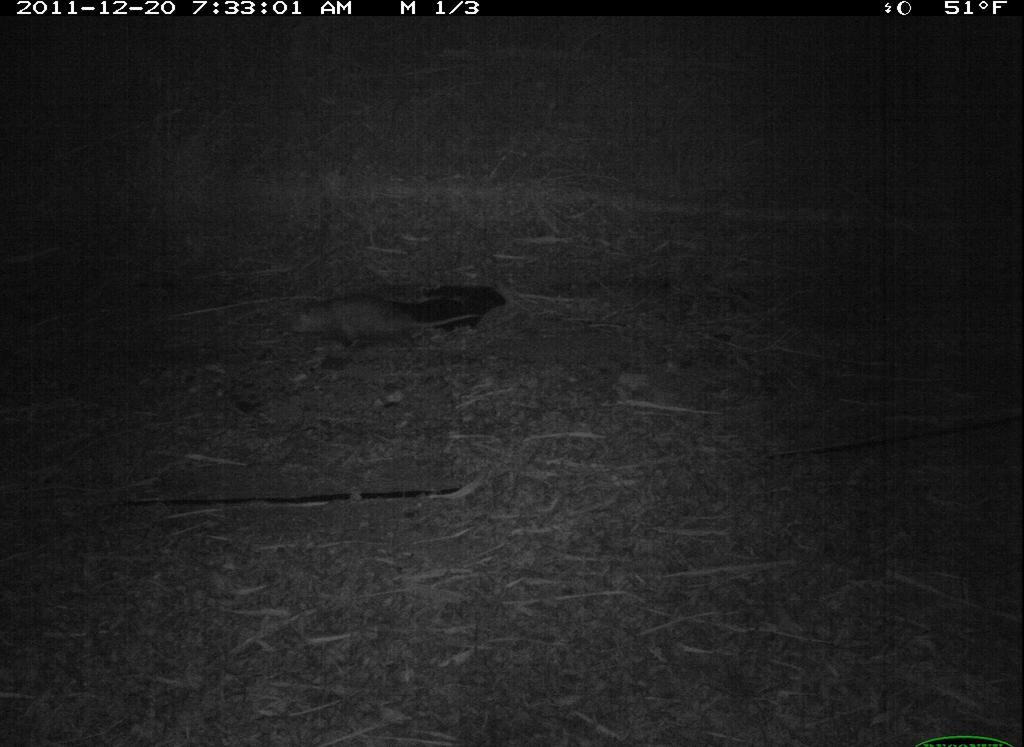opossum: (273, 281, 481, 374)
